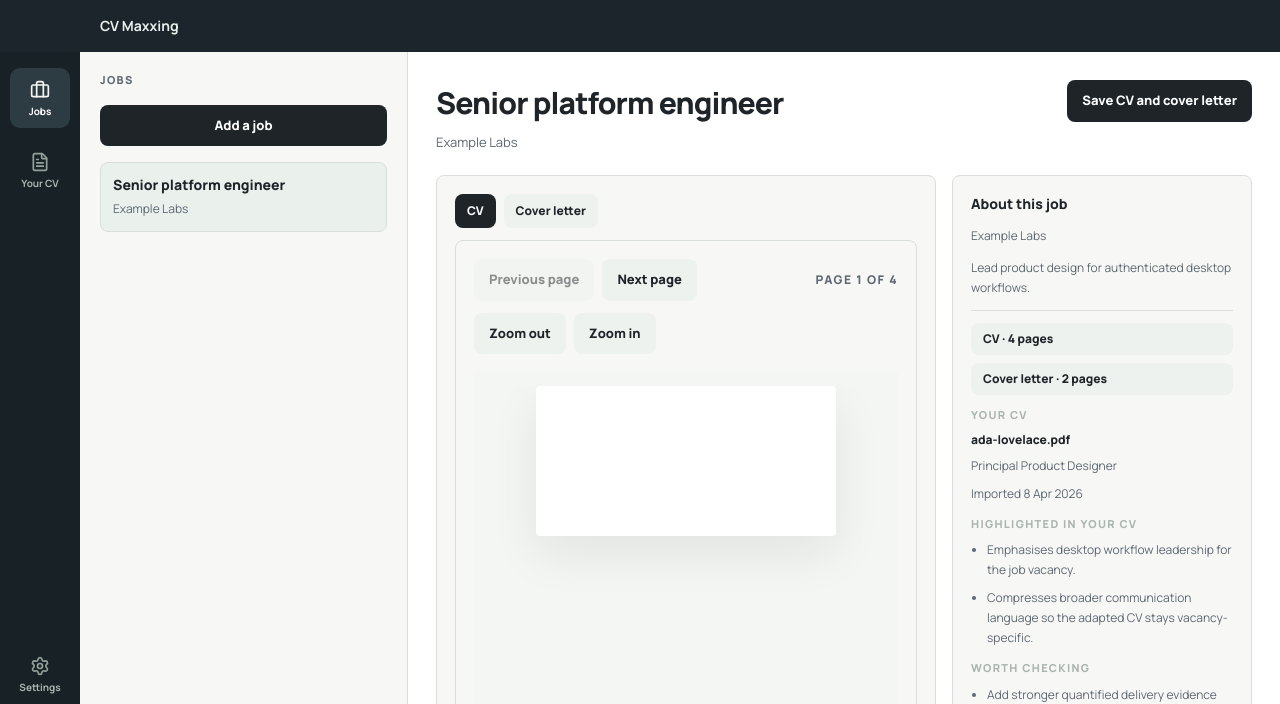
shows a PDF save error when exporting the tailored CV fails
Expected: the heading "Senior platform engineer" is shown, [436,82,784,123]
Expected: the text "Page 1 of 4" is shown, [816,272,898,288]
Click the button "Save CV and cover letter" at (1160, 101), box [1067,80,1252,122]
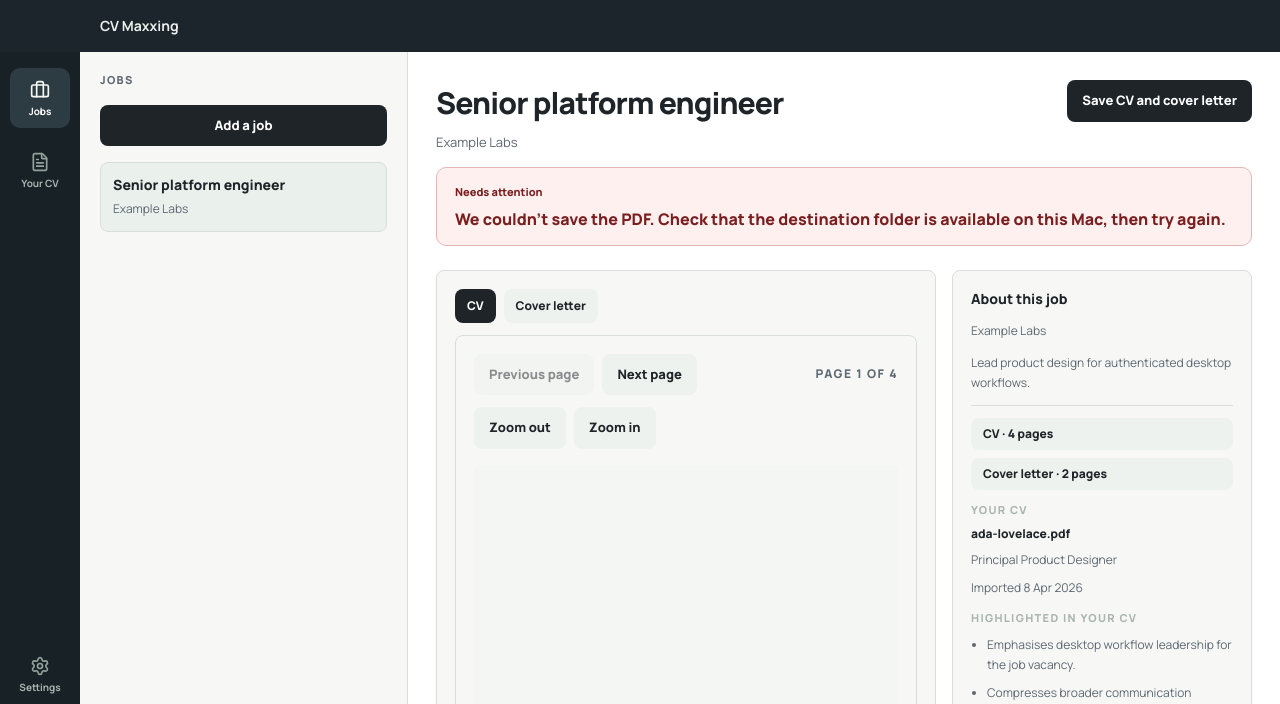
Expected: the message is shown, [436,167,1252,246]
Expected: the text "We couldn't save the PDF. Check that the destination folder is available on this Mac, then try again." is shown once, [455,209,1233,229]
Click the button "Add a job" at (244, 125), box [100,104,387,146]
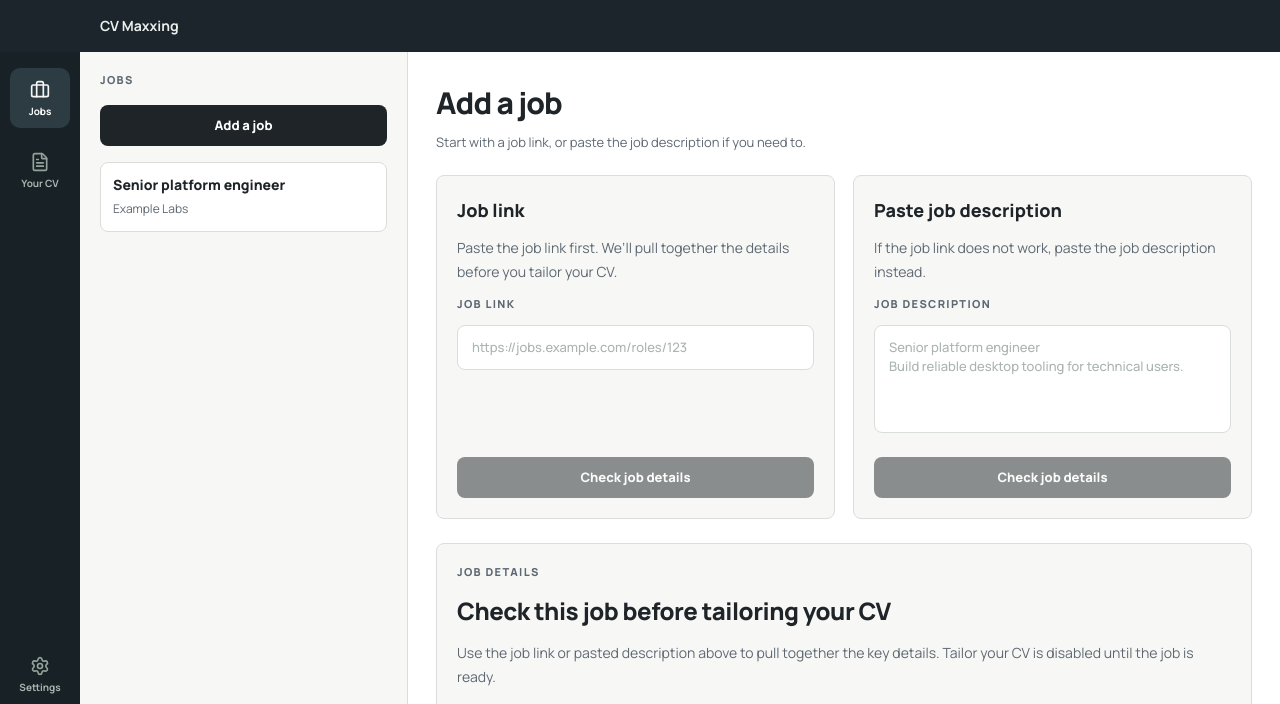
Expected: the heading "Add a job" is shown, [436,82,562,123]
Expected: the text "We couldn't save the PDF. Check that the destination folder is available on this Mac, then try again." is gone
Click the button with aria-label "Open senior platform engineer" at (244, 197), box [113,175,374,219]
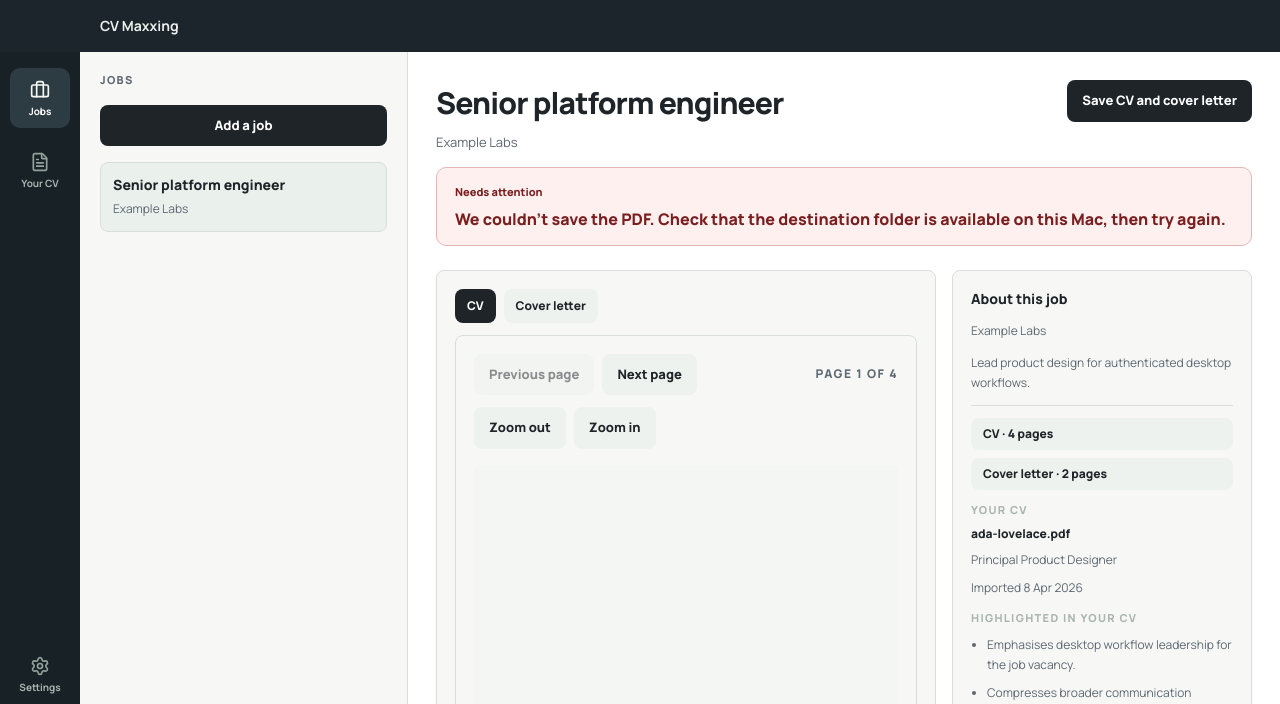
Expected: the heading "Senior platform engineer" is shown, [436,82,784,123]
Expected: the text "We couldn't save the PDF. Check that the destination folder is available on this Mac, then try again." is shown once, [455,209,1233,229]
